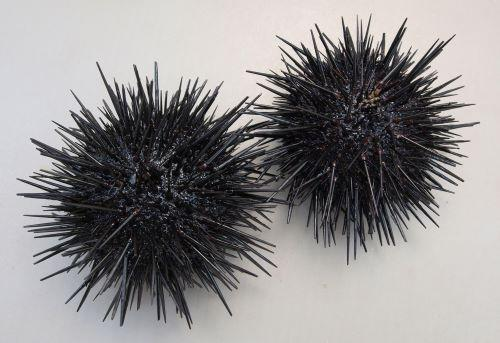urchin: (41, 73, 255, 321), (255, 18, 465, 240)
